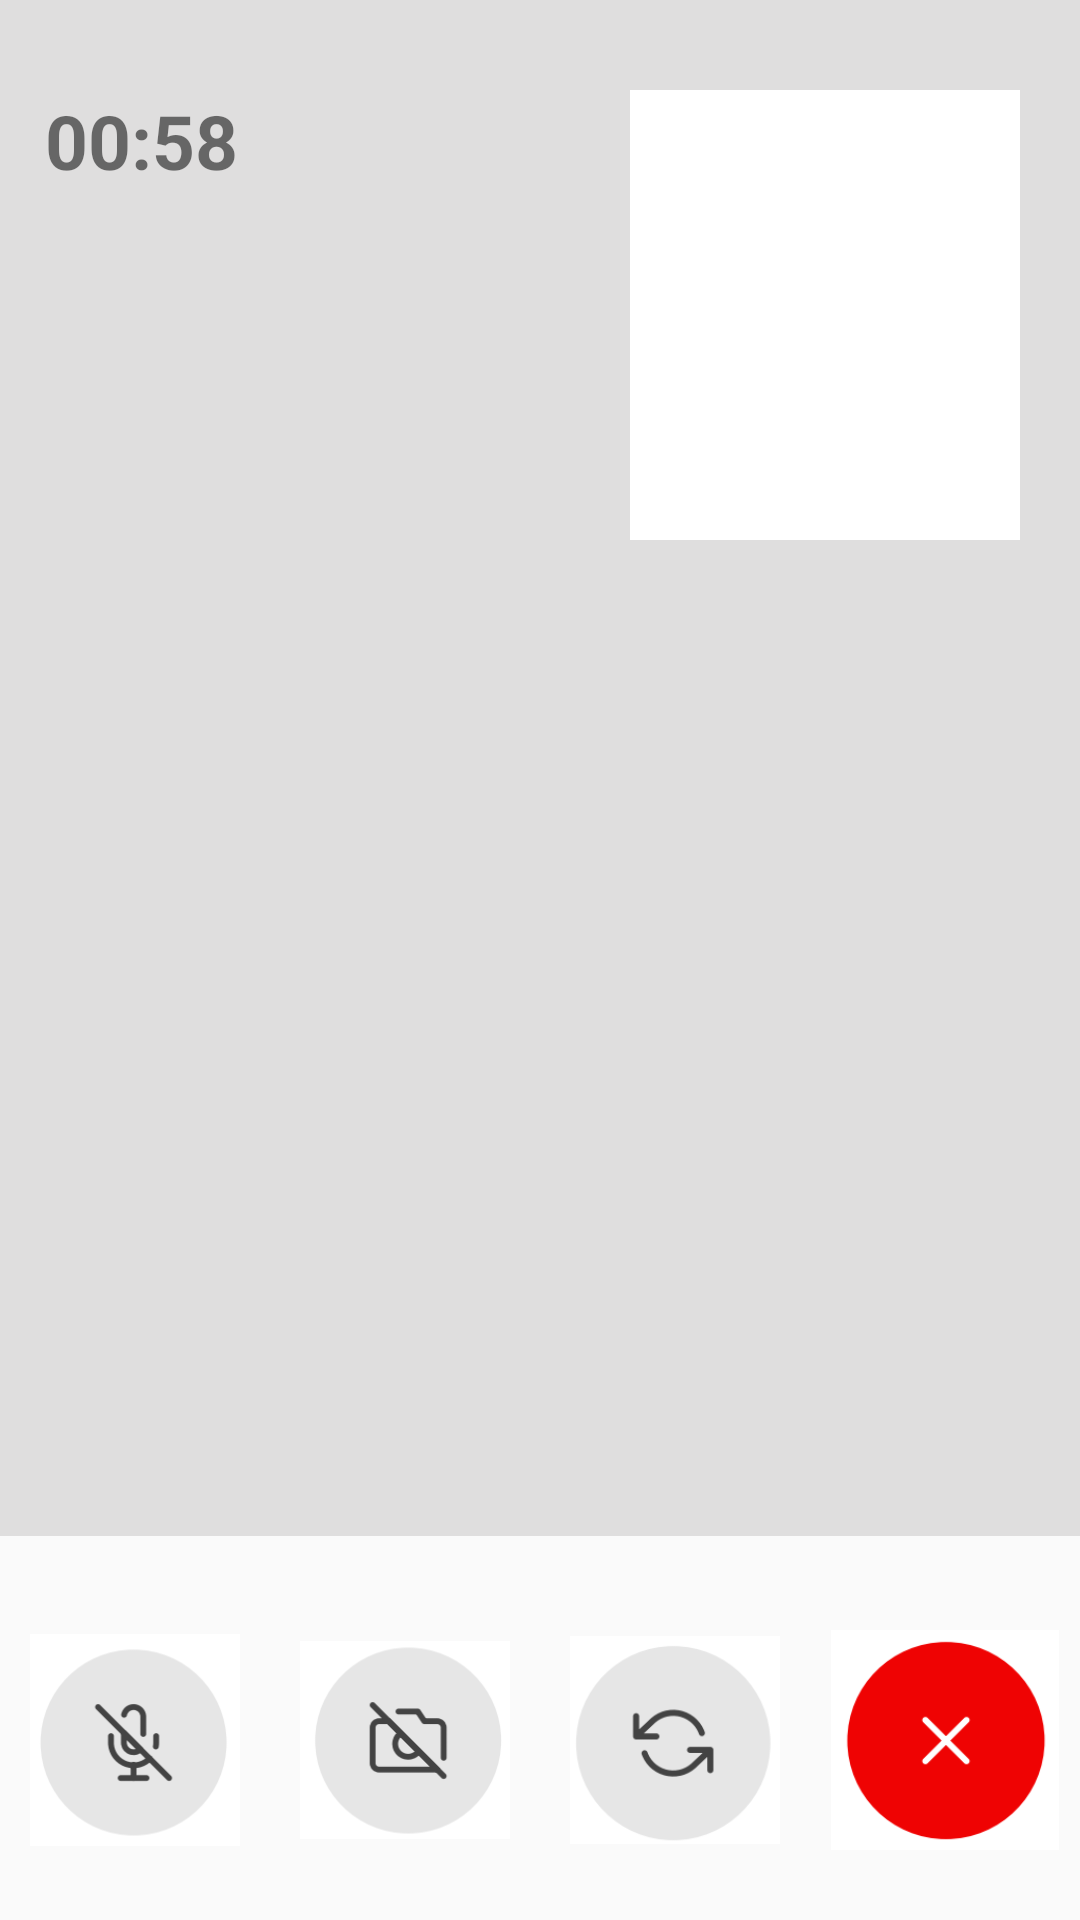

Icon click points for this 1080×1920 phone screenshot, format point (x, y):
call camera: point (408, 1740)
end call: point (946, 1740)
flip: point (673, 1743)
mic: point (134, 1742)
